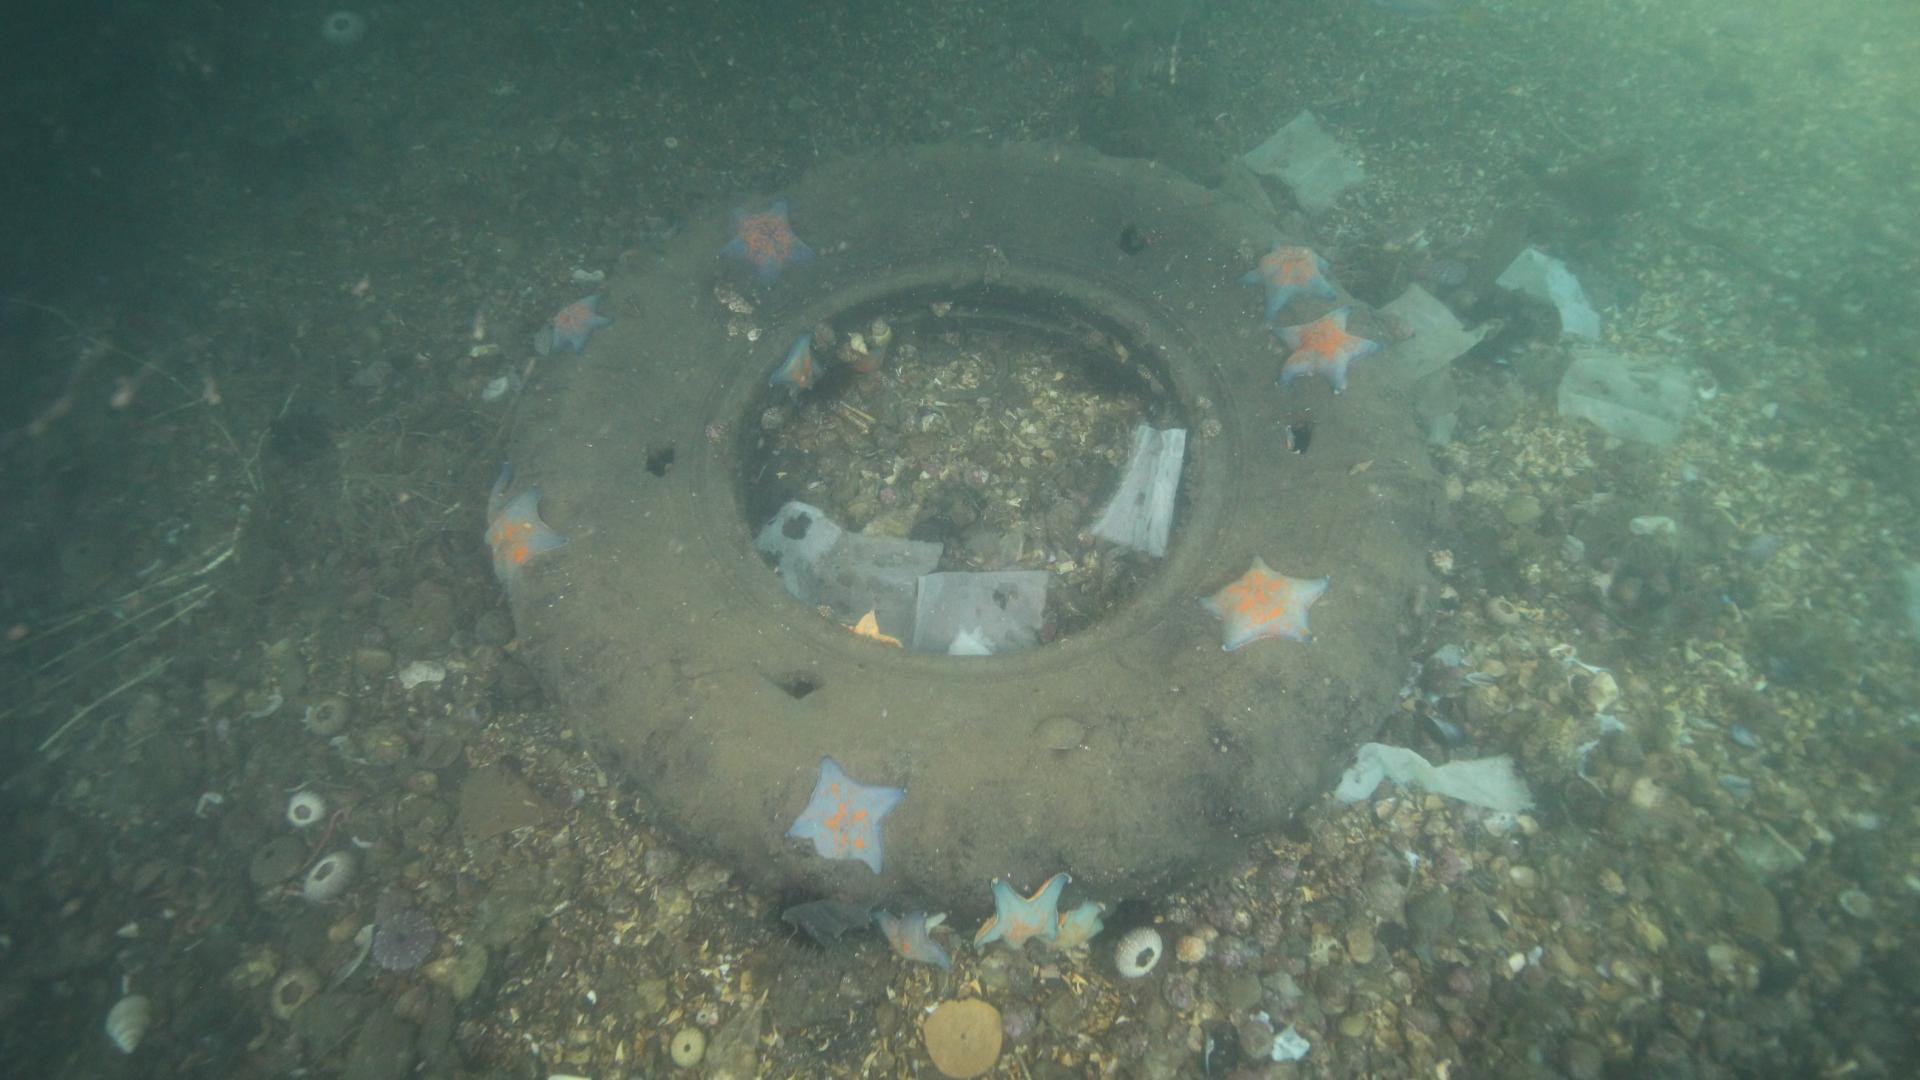tire: (473, 142, 1439, 922)
